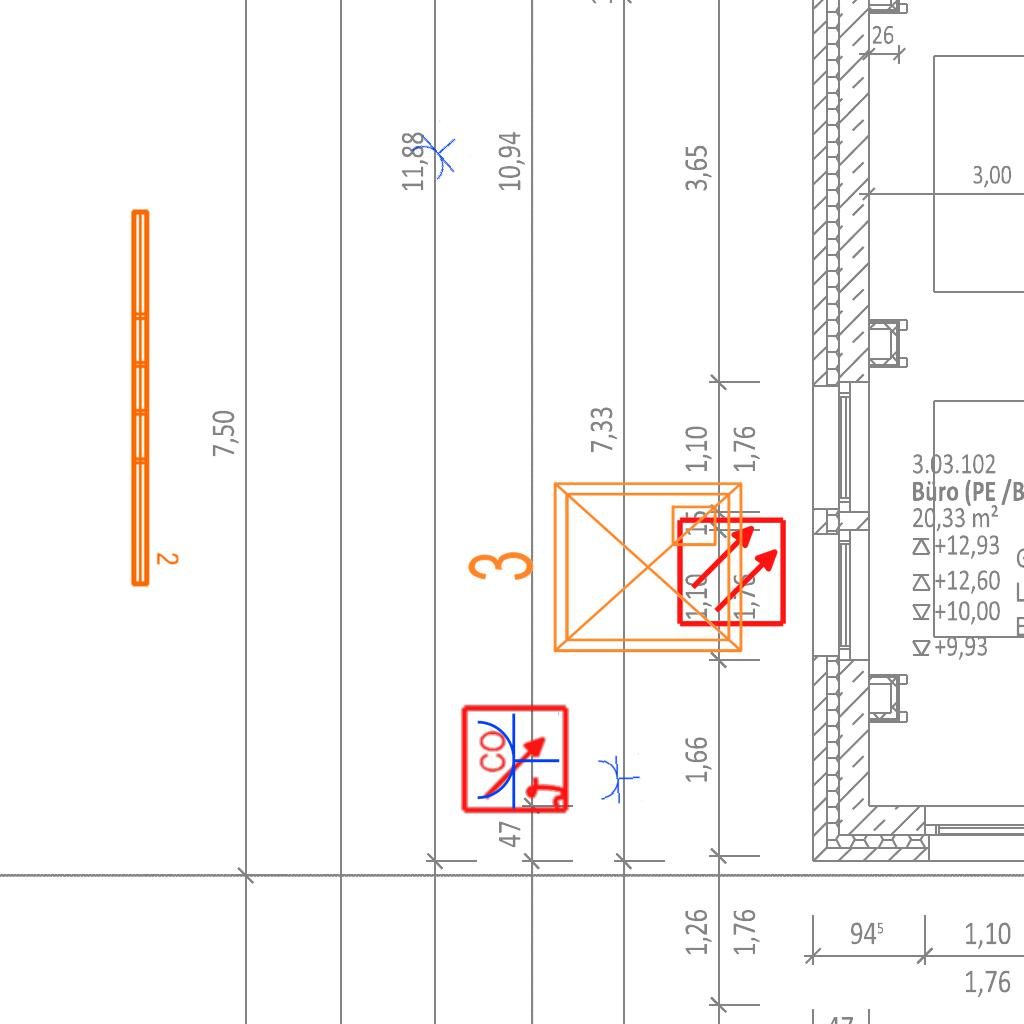Ambulanz_Pendelleuchte_LED: (125, 204, 181, 591)
Einbaudownlights_LED_Konferenzraeume: (457, 467, 757, 675)
RMO_Rauchmelder_optischer: (675, 515, 788, 628)
ROA_Rauchmelder_optisch_mit_Signalgeber_(Sockelsirene): (460, 702, 573, 815)
Schukosteckdose_einfach: (473, 710, 560, 810), (406, 119, 472, 186), (595, 752, 643, 805)
